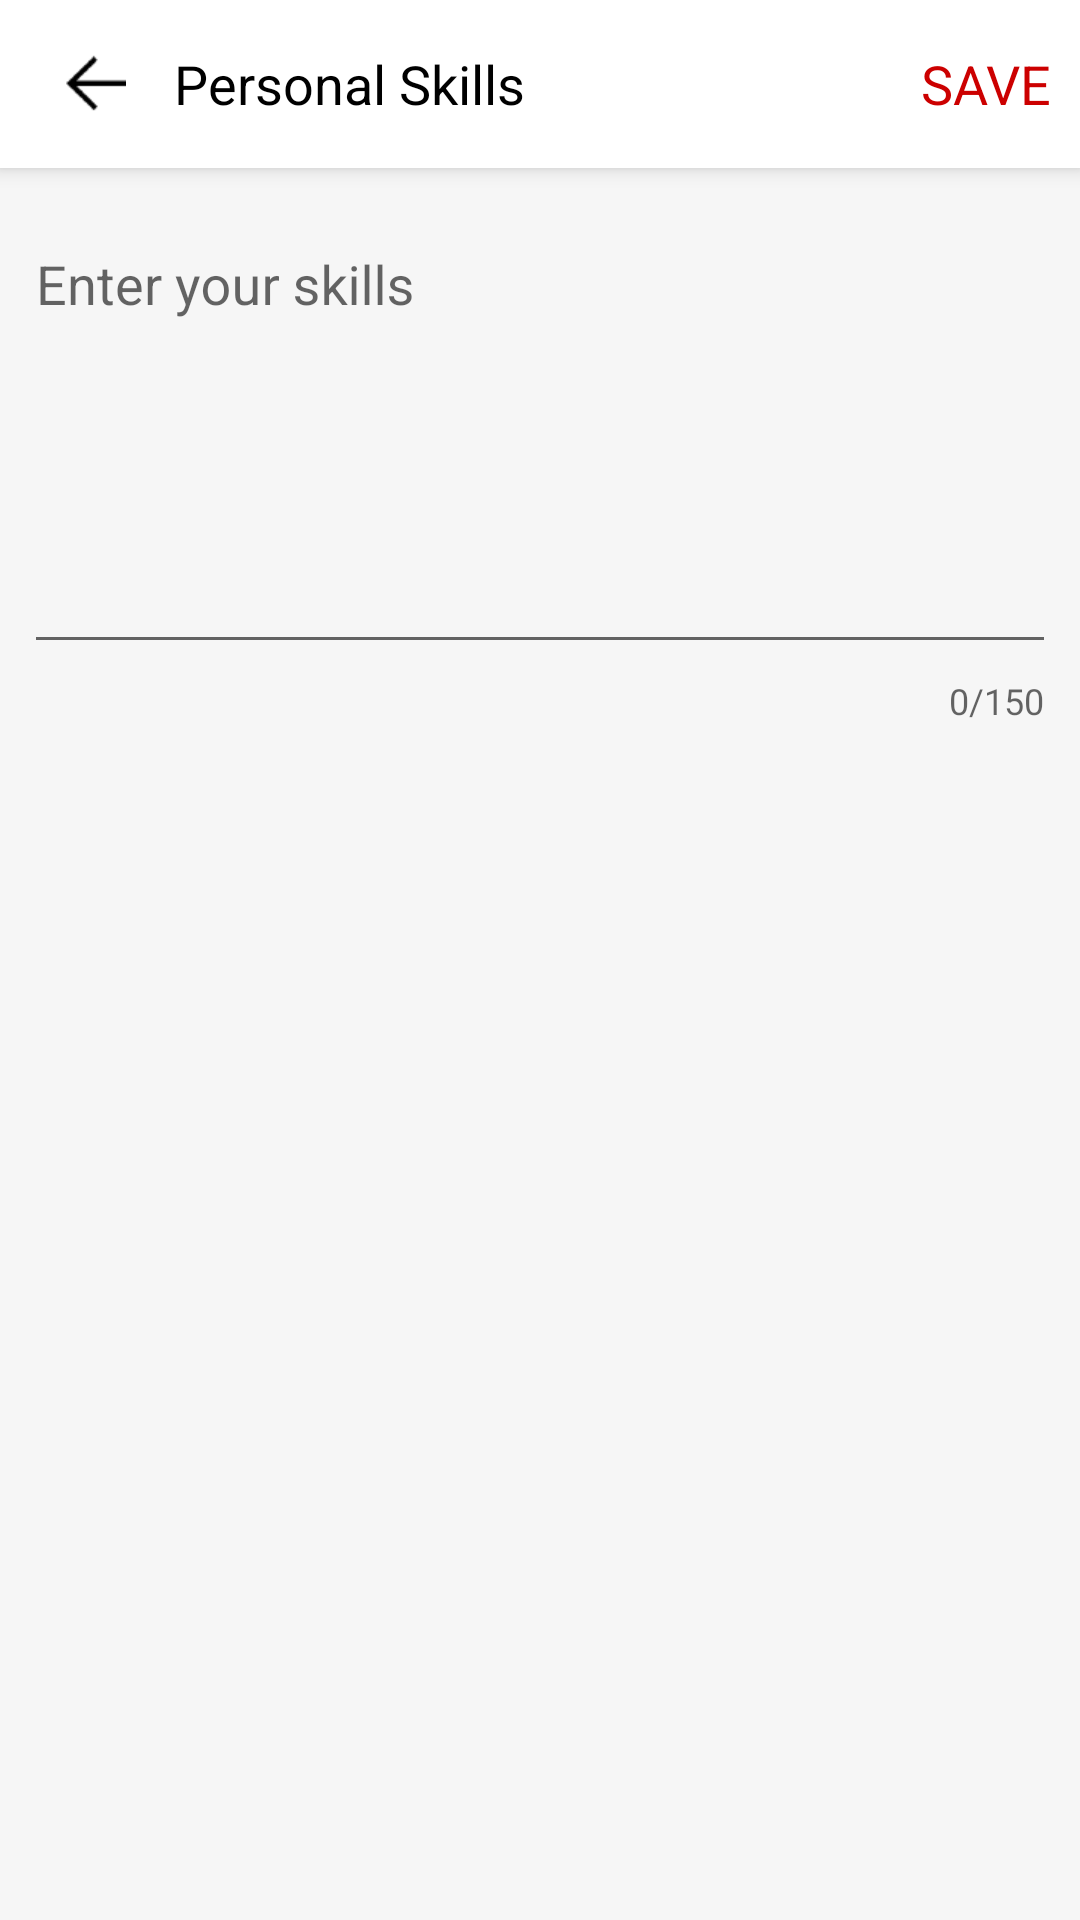

Screen size 1080px×1920px. Icon name, then its center in pixels as [x,y]:
back arrow: [96,83]
